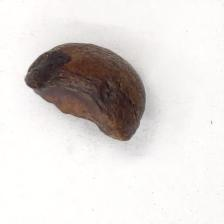NG: (27, 81, 126, 142)
